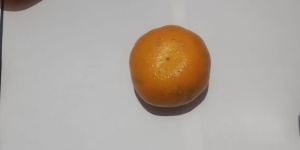BAD: (128, 22, 216, 113)
